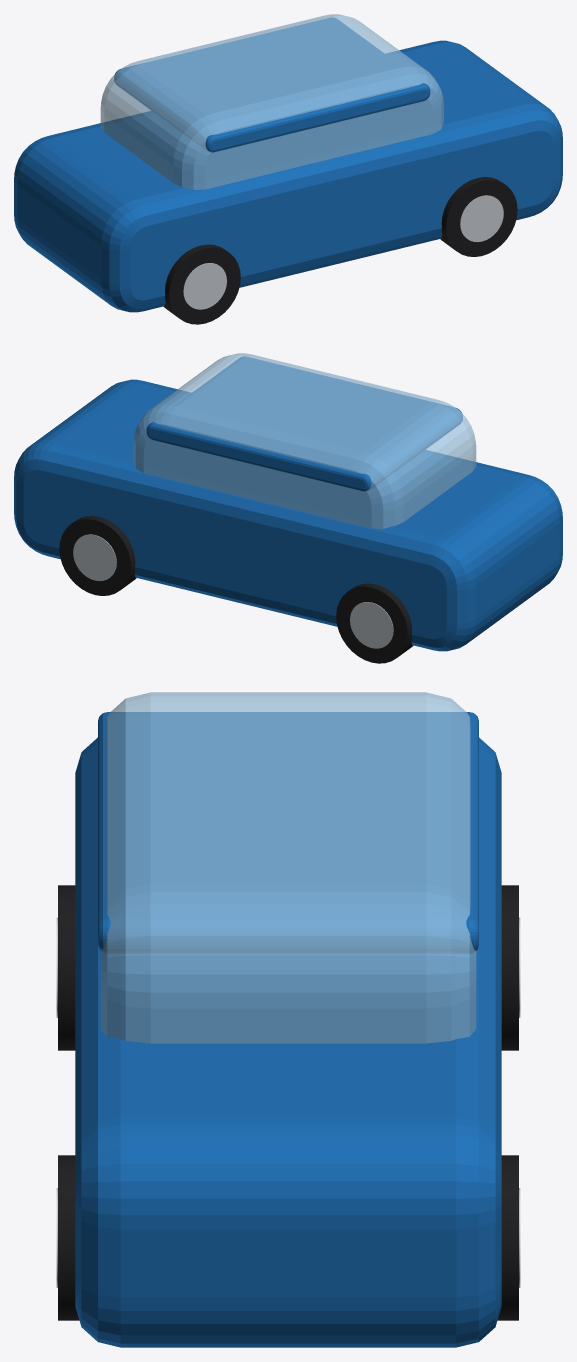
The model's file is car.glb.
3 views of the same model, one above another, from view 1: azimuth 30°, elevation 25°; view 2: azimuth 150°, elevation 25°; view 3: azimuth 270°, elevation 25° (orthographic). The views are drawn at different scales.
Parts seen in each view (by area): view 1: car; view 2: car; view 3: car.
Part boxes in pixels (box(x1,y1,x2,y2)): car: box(14, 14, 562, 324); car: box(14, 353, 562, 663); car: box(56, 692, 520, 1347).
Size of the model in its own units: 4.22 by 1.64 by 1.85.
